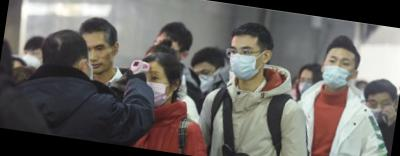with_mask: (224, 42, 266, 82), (138, 66, 175, 111), (321, 52, 359, 91), (364, 94, 397, 127), (189, 66, 222, 96), (72, 51, 97, 84), (21, 47, 46, 70), (298, 72, 317, 98)
without_mask: (83, 39, 115, 76)
